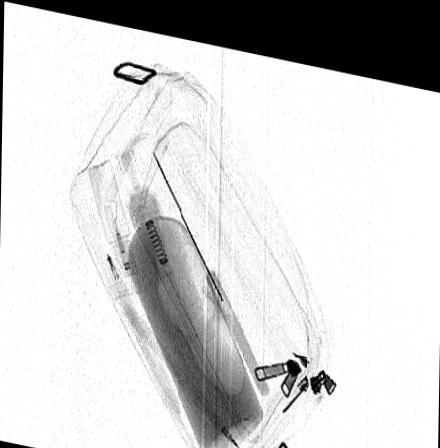Knife: (150, 144, 269, 387)
